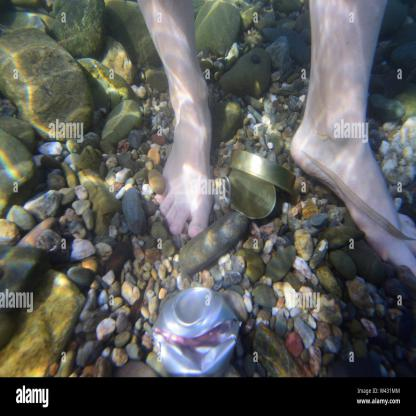can: (150, 286, 240, 381), (221, 148, 296, 225)
